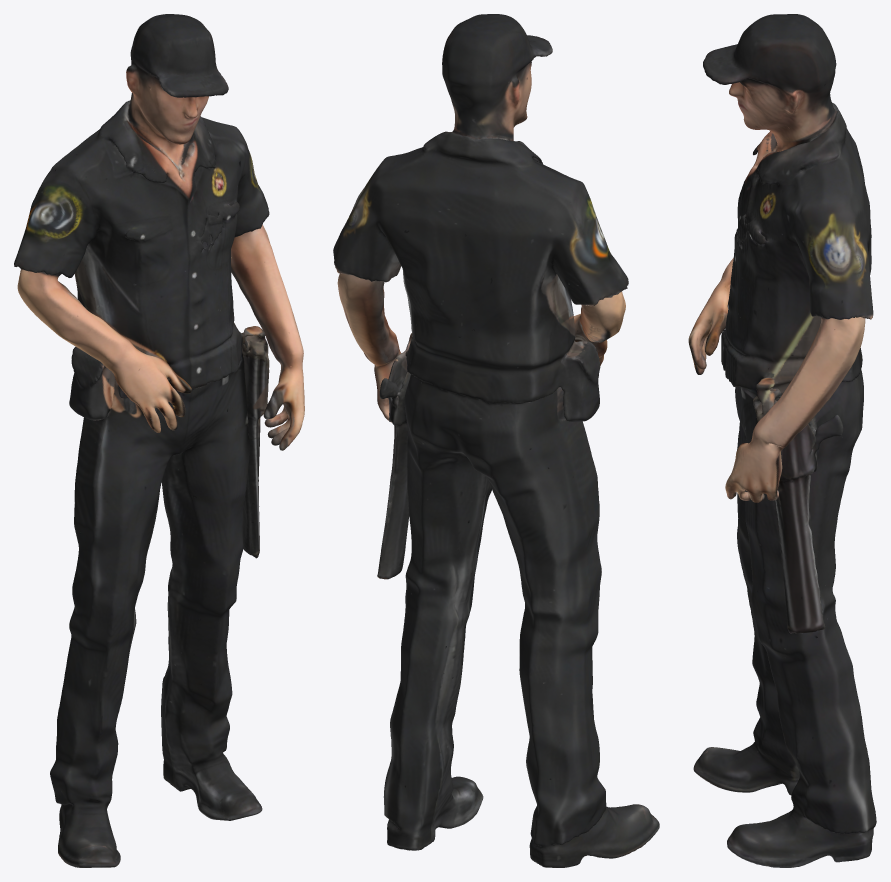
File: Meshy_AI_g_0211093445_texture.glb
3 renders of one model, left to right at view 1: azimuth 30°, elevation 25°; view 2: azimuth 150°, elevation 25°; view 3: azimuth 270°, elevation 25°, orthographic.
Size of the model in its own units: 0.7103 by 2 by 0.4189.
Materials: 1 (1 with a texture image).
